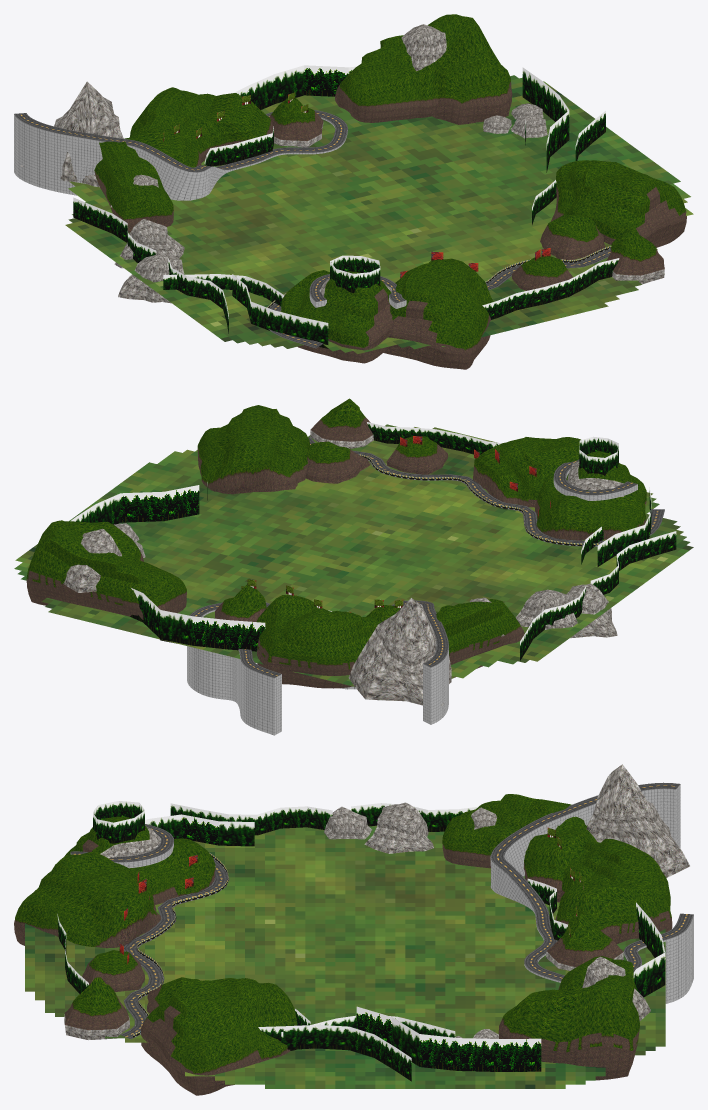
Rendered from mountain1.glb.
3 renders of one model, top to bottom at view 1: azimuth 30°, elevation 25°; view 2: azimuth 150°, elevation 25°; view 3: azimuth 270°, elevation 25°, orthographic. The views are drawn at different scales.
Parts seen in each view (by area): view 1: ground, mountain 3.002, Plane.030, mountain 2, mountain 2.001, mountain 1, mountain 3, mountain 3.001, Plane.041, Cube.004, Plane.036, Cube.006 (+17 smaller); view 2: ground, mountain 3.002, mountain 3.001, Plane.030, mountain 2.001, Cube.004, mountain 1, mountain 2, mountain 3, Plane.041, Plane.034, Cube.007 (+14 smaller); view 3: ground, mountain 2.001, mountain 3.002, mountain 2, Plane.030, mountain 3.001, mountain 3, Plane.034, Cube.004, mountain 1, Plane.033, Cube.007 (+17 smaller).
Part boxes in pixels (bbox=[...]): ground: bbox=[65, 75, 693, 353]; mountain 3.002: bbox=[335, 14, 512, 124]; Plane.030: bbox=[14, 110, 347, 200]; mountain 2: bbox=[383, 258, 493, 369]; mountain 2.001: bbox=[550, 160, 686, 247]; mountain 1: bbox=[281, 270, 392, 363]; mountain 3: bbox=[94, 126, 201, 232]; mountain 3.001: bbox=[129, 87, 273, 162]; Plane.041: bbox=[234, 65, 356, 109]; Cube.004: bbox=[20, 81, 123, 187]; Plane.036: bbox=[482, 258, 619, 319]; Cube.006: bbox=[540, 214, 605, 259]; ground: bbox=[14, 424, 693, 686]; mountain 3.002: bbox=[26, 520, 186, 619]; mountain 3.001: bbox=[256, 594, 379, 688]; Plane.030: bbox=[187, 600, 448, 735]; mountain 2.001: bbox=[197, 405, 309, 494]; Cube.004: bbox=[348, 598, 451, 705]; mountain 1: bbox=[535, 450, 646, 540]; mountain 2: bbox=[473, 437, 580, 507]; mountain 3: bbox=[366, 599, 524, 677]; Plane.041: bbox=[130, 588, 265, 651]; Plane.034: bbox=[70, 485, 199, 524]; Cube.007: bbox=[310, 398, 373, 448]; ground: bbox=[25, 825, 665, 1088]; mountain 2.001: bbox=[141, 978, 296, 1095]; mountain 3.002: bbox=[498, 956, 639, 1080]; mountain 2: bbox=[14, 852, 161, 948]; Plane.030: bbox=[490, 782, 693, 1003]; mountain 3.001: bbox=[555, 839, 672, 944]; mountain 3: bbox=[442, 794, 596, 902]; Plane.034: bbox=[356, 1006, 541, 1071]; Cube.004: bbox=[586, 764, 689, 877]; mountain 1: bbox=[64, 816, 215, 904]; Plane.033: bbox=[258, 1025, 411, 1081]; Cube.007: bbox=[64, 977, 129, 1040].
Size of the model in its own units: 593 by 156 by 612.
Materials: 44 (44 with a texture image).
